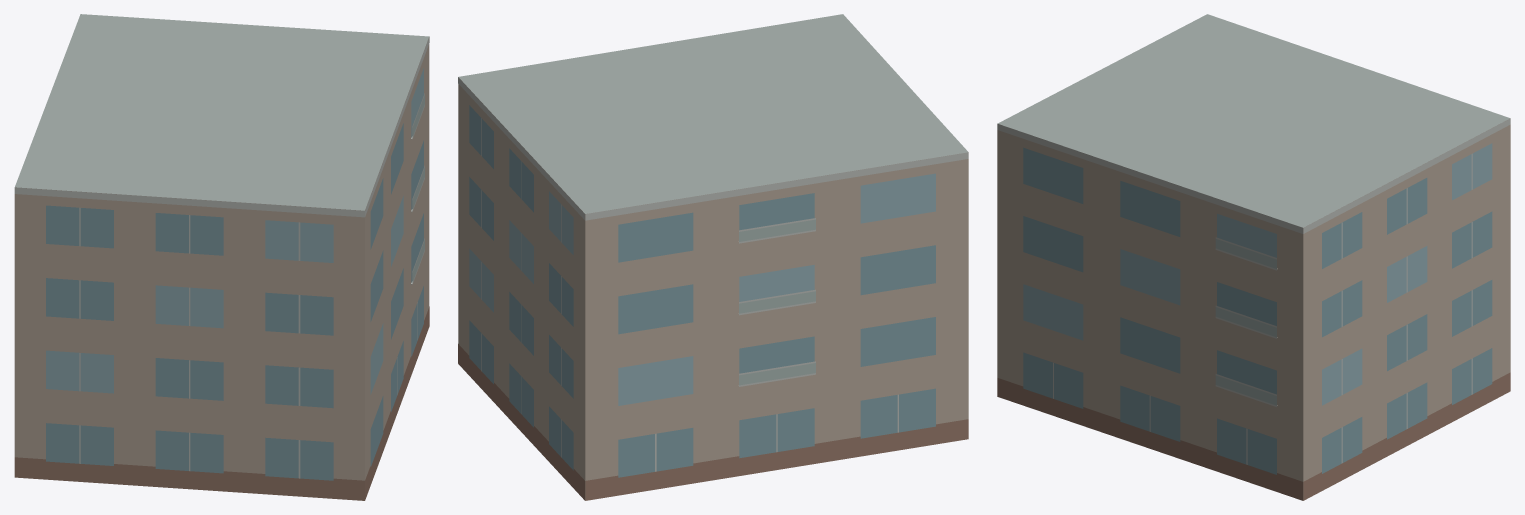
File: survey-upis-32705493.glb
3 views of the same model, side by side, from view 1: azimuth 30°, elevation 25°; view 2: azimuth 150°, elevation 25°; view 3: azimuth 270°, elevation 25° (orthographic). The views are drawn at different scales.
Parts seen in each view (by area): view 1: survey-upis-32705493.tmp; view 2: survey-upis-32705493.tmp; view 3: survey-upis-32705493.tmp.
Boxes of the visible parts, x1,y1,x2,y2 form: survey-upis-32705493.tmp: (14,14,429,500); survey-upis-32705493.tmp: (458,14,968,500); survey-upis-32705493.tmp: (997,14,1510,500).
Bounding box in the file's own units: 17.81 × 10.6 × 18.06.
